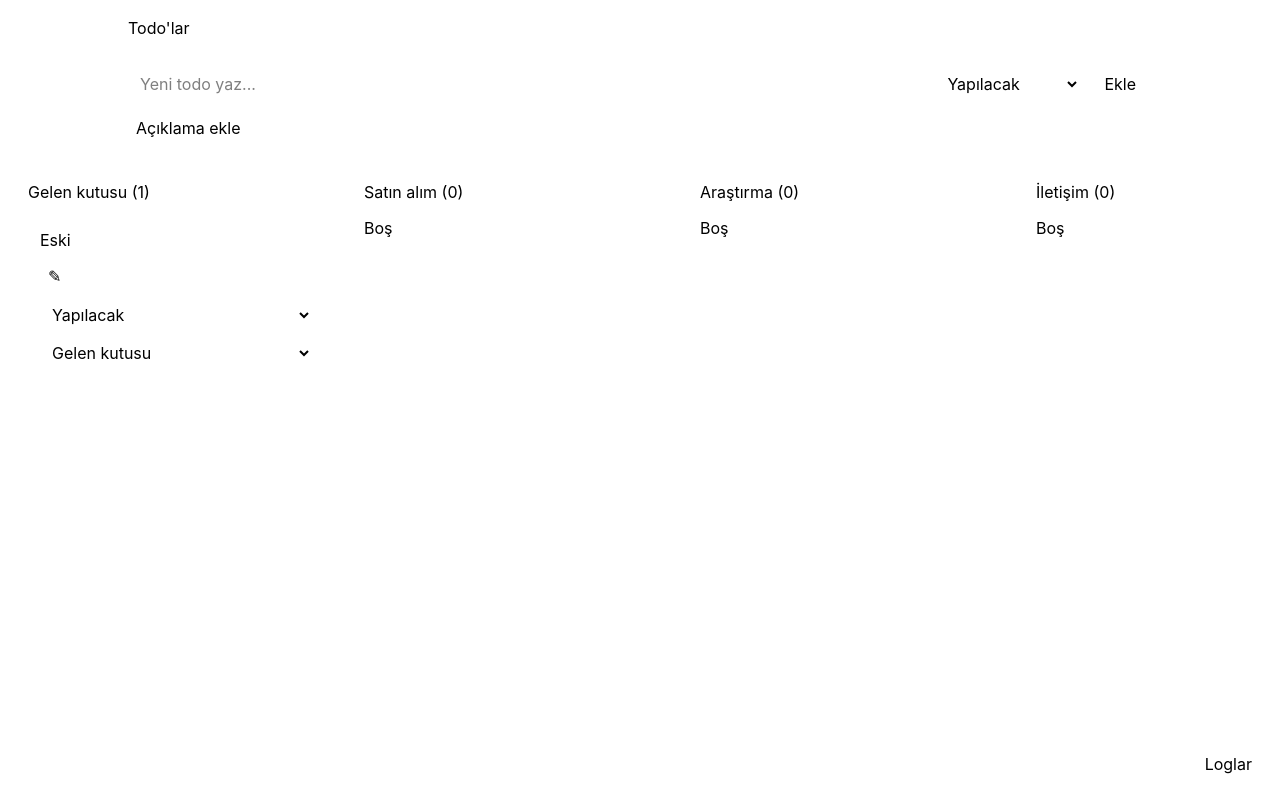
Scenario: add form › adds a todo to Gelen kutusu with a trimmed title and the default status
The image size is (1280, 800).
Type "  Fatura öde  " into the field named "Todo başlığı".
click(526, 84); type("  Fatura öde  ")  # box [128,64,923,104]
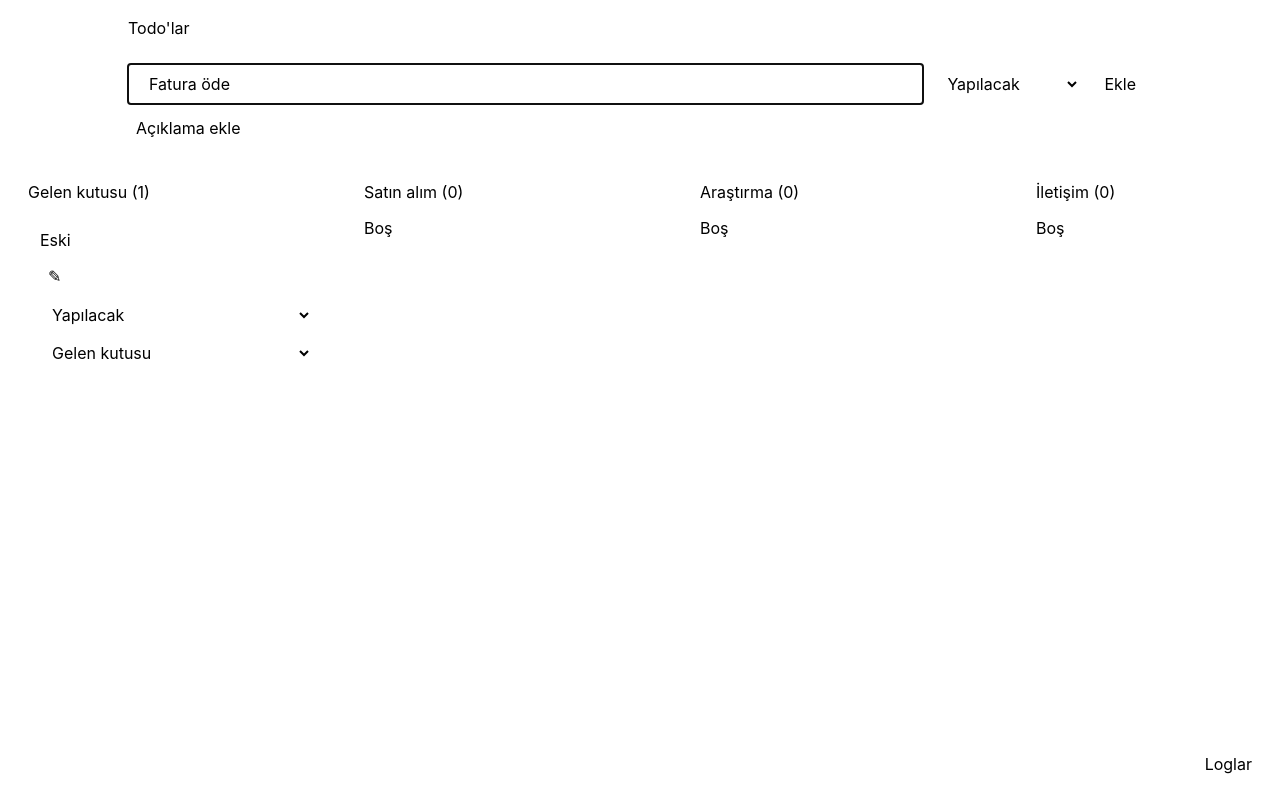
Click the button "Ekle".
click(1120, 84)  # box [1088,64,1152,104]
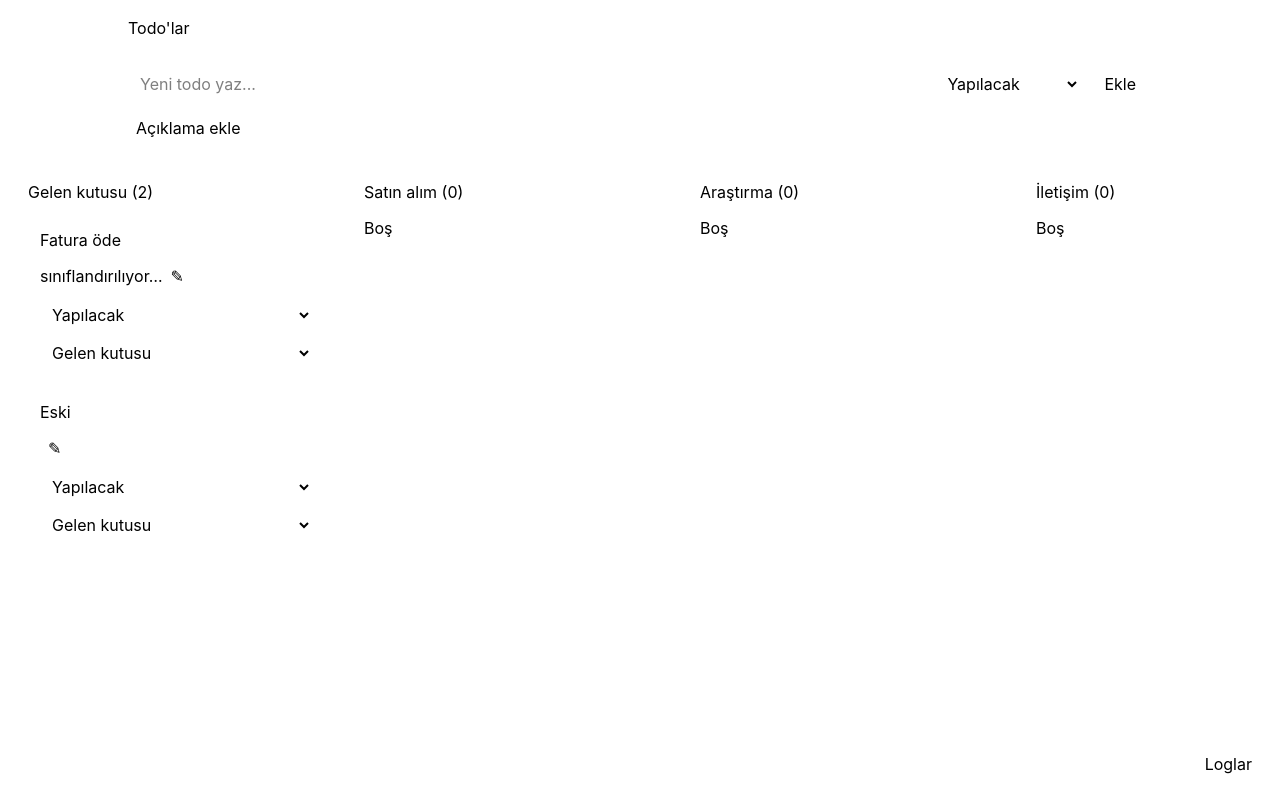
expect the heading "Gelen kutusu (2)" is shown: met, box [28,182,153,202]
expect the field named "Todo başlığı" is empty: met, box [128,64,923,104]
